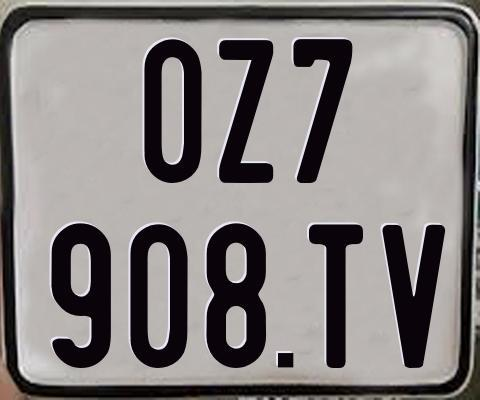0: (129, 224, 189, 373), (144, 36, 204, 184)
7: (290, 38, 353, 185)
8: (206, 221, 272, 369)
9: (51, 221, 113, 371)
T: (307, 221, 363, 369)
V: (382, 222, 448, 368)
Z: (218, 37, 274, 186)
